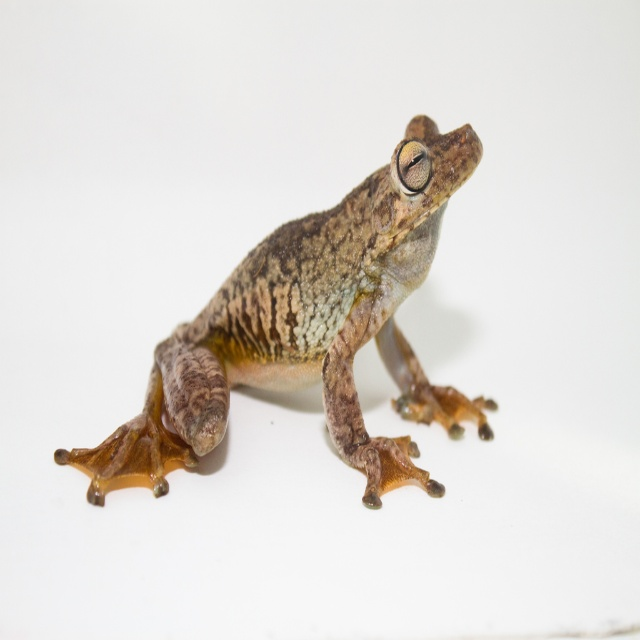Frog: (52, 114, 498, 508)
